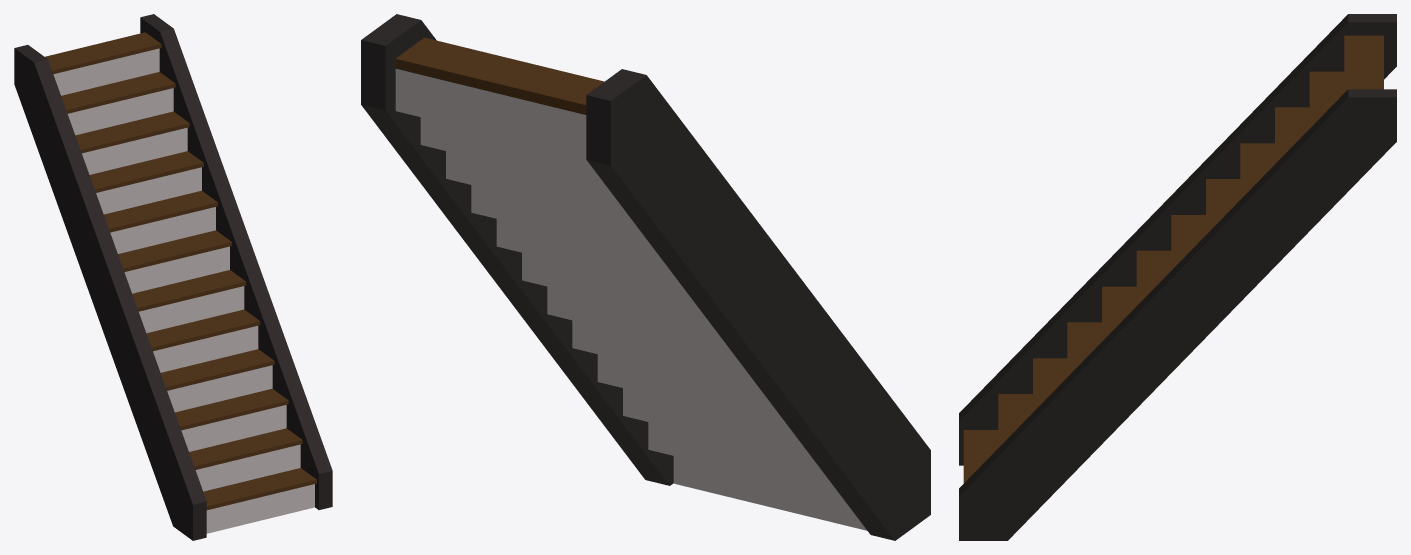
File: stairs.fbx
The picture shows the model from 3 angles, left to right: view 1: azimuth 30°, elevation 25°; view 2: azimuth 150°, elevation 25°; view 3: azimuth 270°, elevation 25°; orthographic projection. The views are drawn at different scales.
Parts seen in each view (by area): view 1: Cube, Cube.001; view 2: Cube, Cube.001; view 3: Cube.001, Cube.
Part boxes in pixels (x1,y1,x2,y2): Cube: [45, 32, 316, 533]; Cube.001: [14, 14, 332, 540]; Cube: [395, 37, 867, 530]; Cube.001: [361, 14, 930, 540]; Cube.001: [959, 14, 1396, 540]; Cube: [963, 35, 1383, 483].
Bounding box in the file's own units: 130 × 322 × 288.
